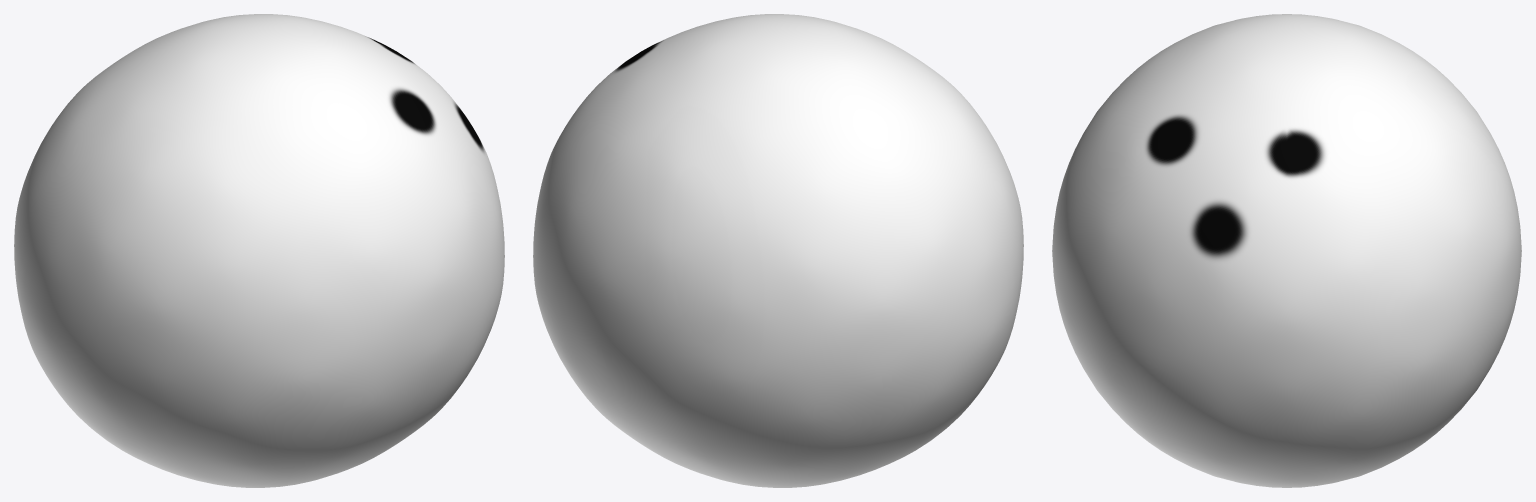
The model's file is bowl.fbx.
The picture shows the model from 3 angles, left to right: view 1: azimuth 30°, elevation 25°; view 2: azimuth 150°, elevation 25°; view 3: azimuth 270°, elevation 25°; orthographic projection.
Parts seen in each view (by area): view 1: Icosphere; view 2: Icosphere; view 3: Icosphere.
Boxes of the visible parts, x1=… form: Icosphere: x1=14, y1=14, x2=504, y2=487; Icosphere: x1=533, y1=14, x2=1023, y2=487; Icosphere: x1=1052, y1=14, x2=1521, y2=487.
Bounding box in the file's own units: 21.38 × 20.47 × 20.35.
